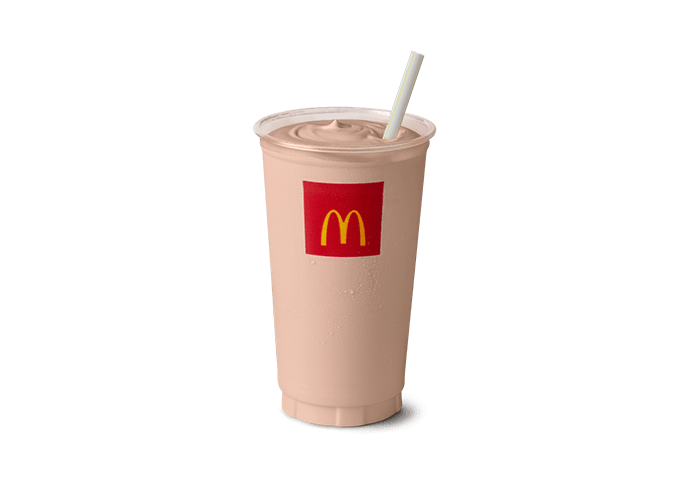mcdonalds: (316, 206, 371, 252)
